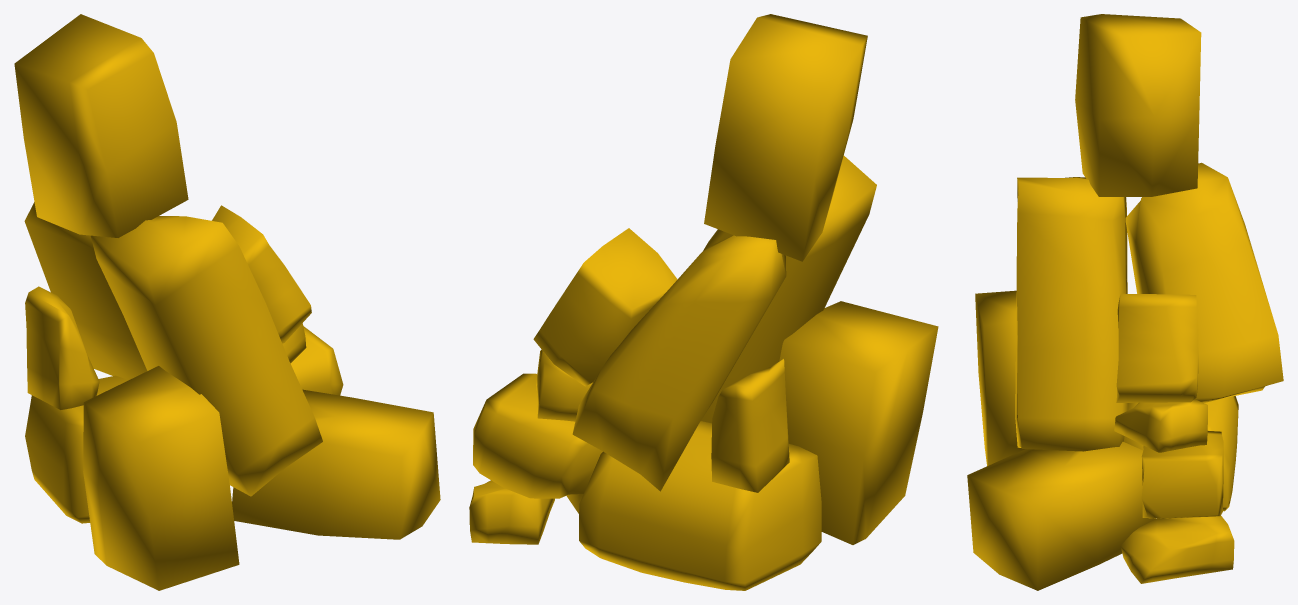
The model's file is Block_Pile_03_Lod1.fbx.
3 views of the same model, side by side, from view 1: azimuth 30°, elevation 25°; view 2: azimuth 150°, elevation 25°; view 3: azimuth 270°, elevation 25° (orthographic). The views are drawn at different scales.
Visible parts, largest first — view 1: Block_Pile_03_Lod1; view 2: Block_Pile_03_Lod1; view 3: Block_Pile_03_Lod1.
Part boxes in pixels (box(x1,y1,x2,y2)): Block_Pile_03_Lod1: box(14, 14, 440, 590); Block_Pile_03_Lod1: box(469, 14, 938, 590); Block_Pile_03_Lod1: box(967, 14, 1283, 590).
Size of the model in its own units: 2012 by 2718 by 1756.
